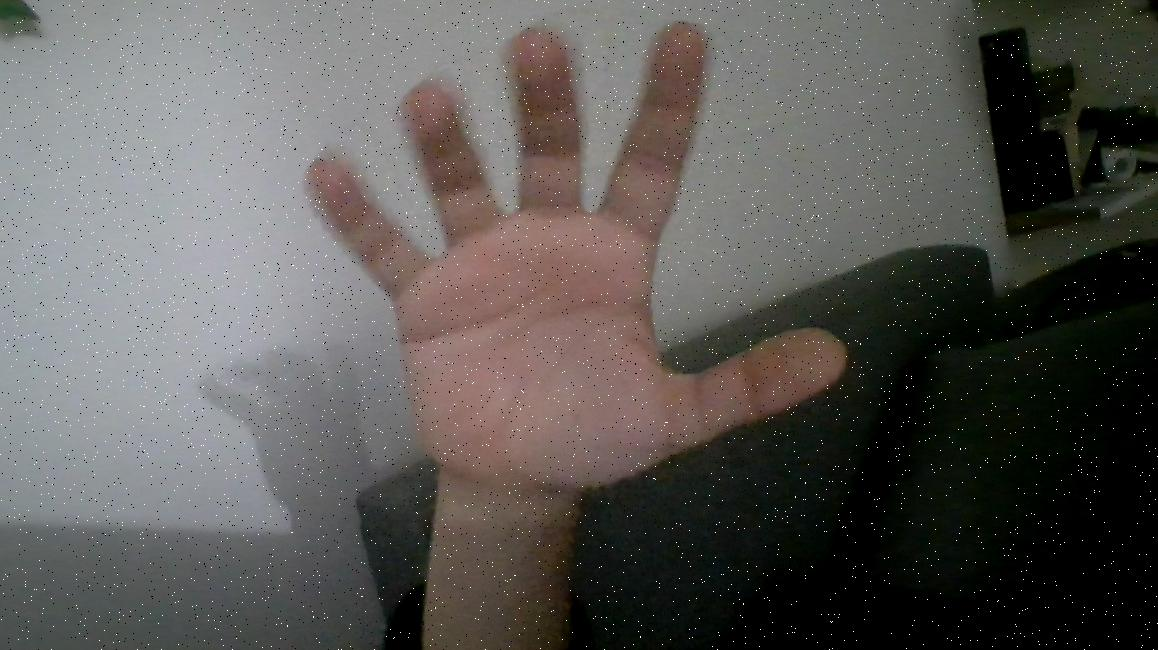hi: (279, 9, 855, 498)
